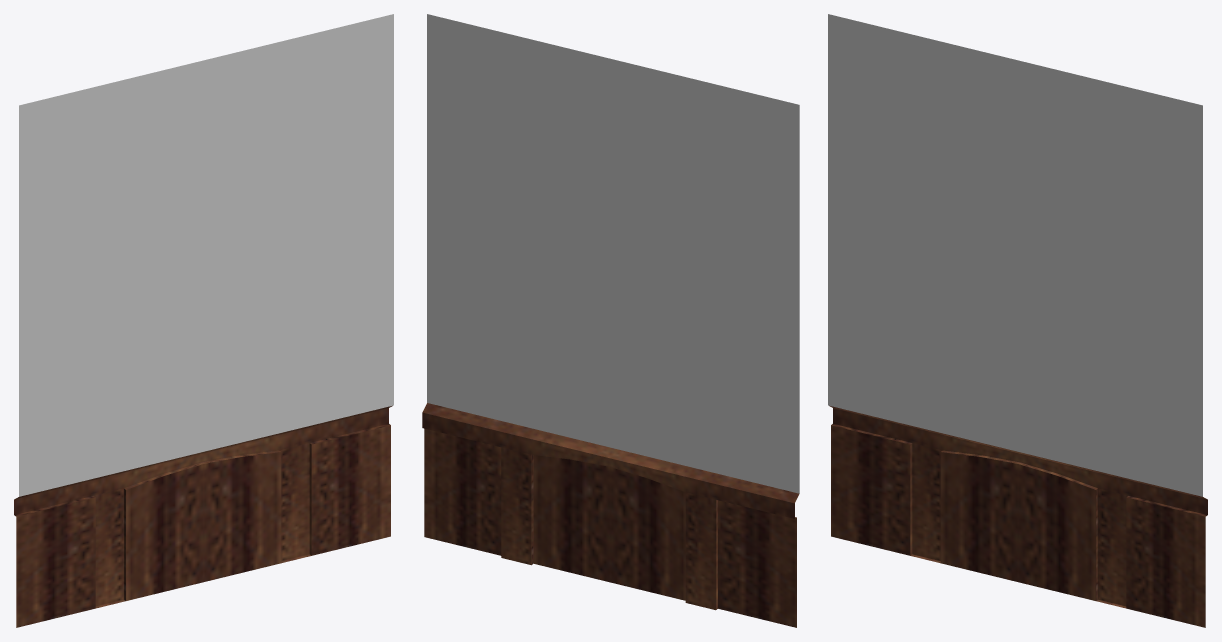
File: WallTEST.fbx
3 views of the same model, side by side, from view 1: azimuth 30°, elevation 25°; view 2: azimuth 150°, elevation 25°; view 3: azimuth 330°, elevation 25° (orthographic).
Visible parts, largest first — view 1: Cube.013; view 2: Cube.013; view 3: Cube.013.
Boxes of the visible parts, <box> form: Cube.013: <box>14,14,393,627</box>; Cube.013: <box>422,14,799,627</box>; Cube.013: <box>828,14,1207,627</box>.
Bounding box in the file's own units: 364 × 486 × 8.17.
Materials: 2 (1 with a texture image).
